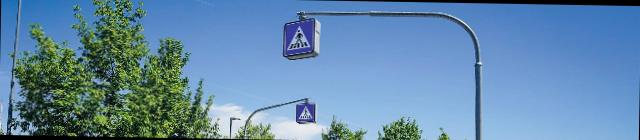crosswalk-sign: (284, 18, 322, 61), (298, 104, 318, 125)
